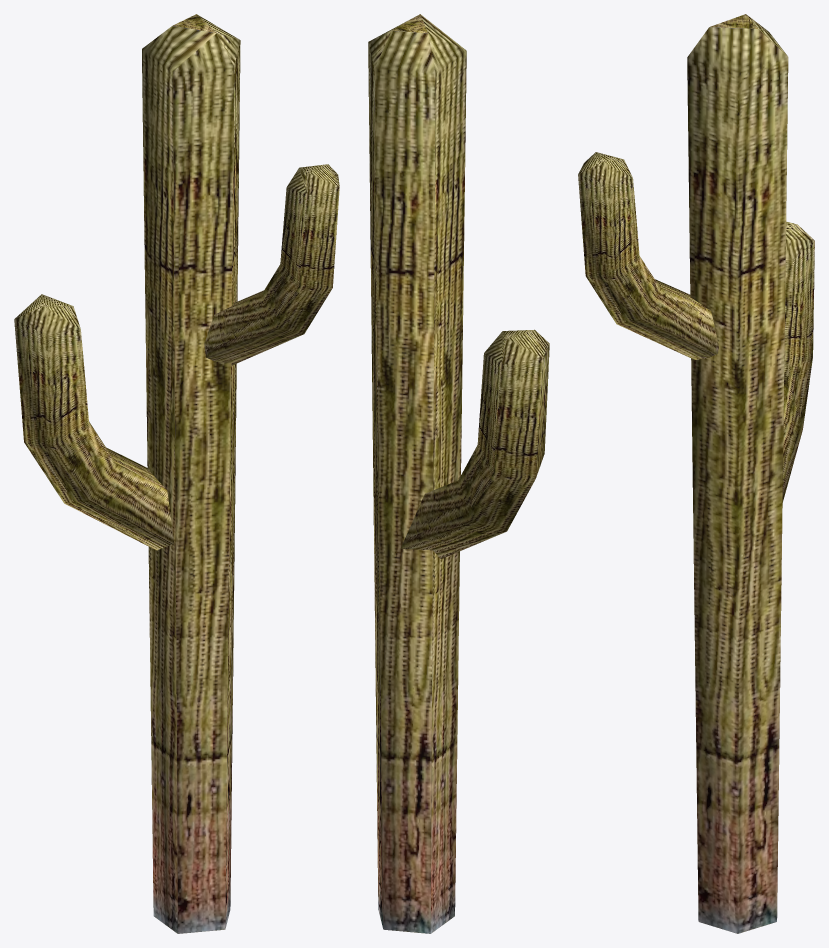
File: ADDON_CANYONPLANT_CACTUSLONG_02_97P.glb
The picture shows the model from 3 angles, left to right: view 1: azimuth 30°, elevation 25°; view 2: azimuth 150°, elevation 25°; view 3: azimuth 270°, elevation 25°; orthographic projection.
Visible parts, largest first — view 1: Mesh; view 2: Mesh; view 3: Mesh.
Part boxes in pixels (x1,y1,x2,y2): Mesh: (14,14,339,933); Mesh: (368,14,549,933); Mesh: (578,14,814,933).
Bounding box in the file's own units: 1.37 × 5.01 × 1.2.
Materials: 1 (1 with a texture image).
